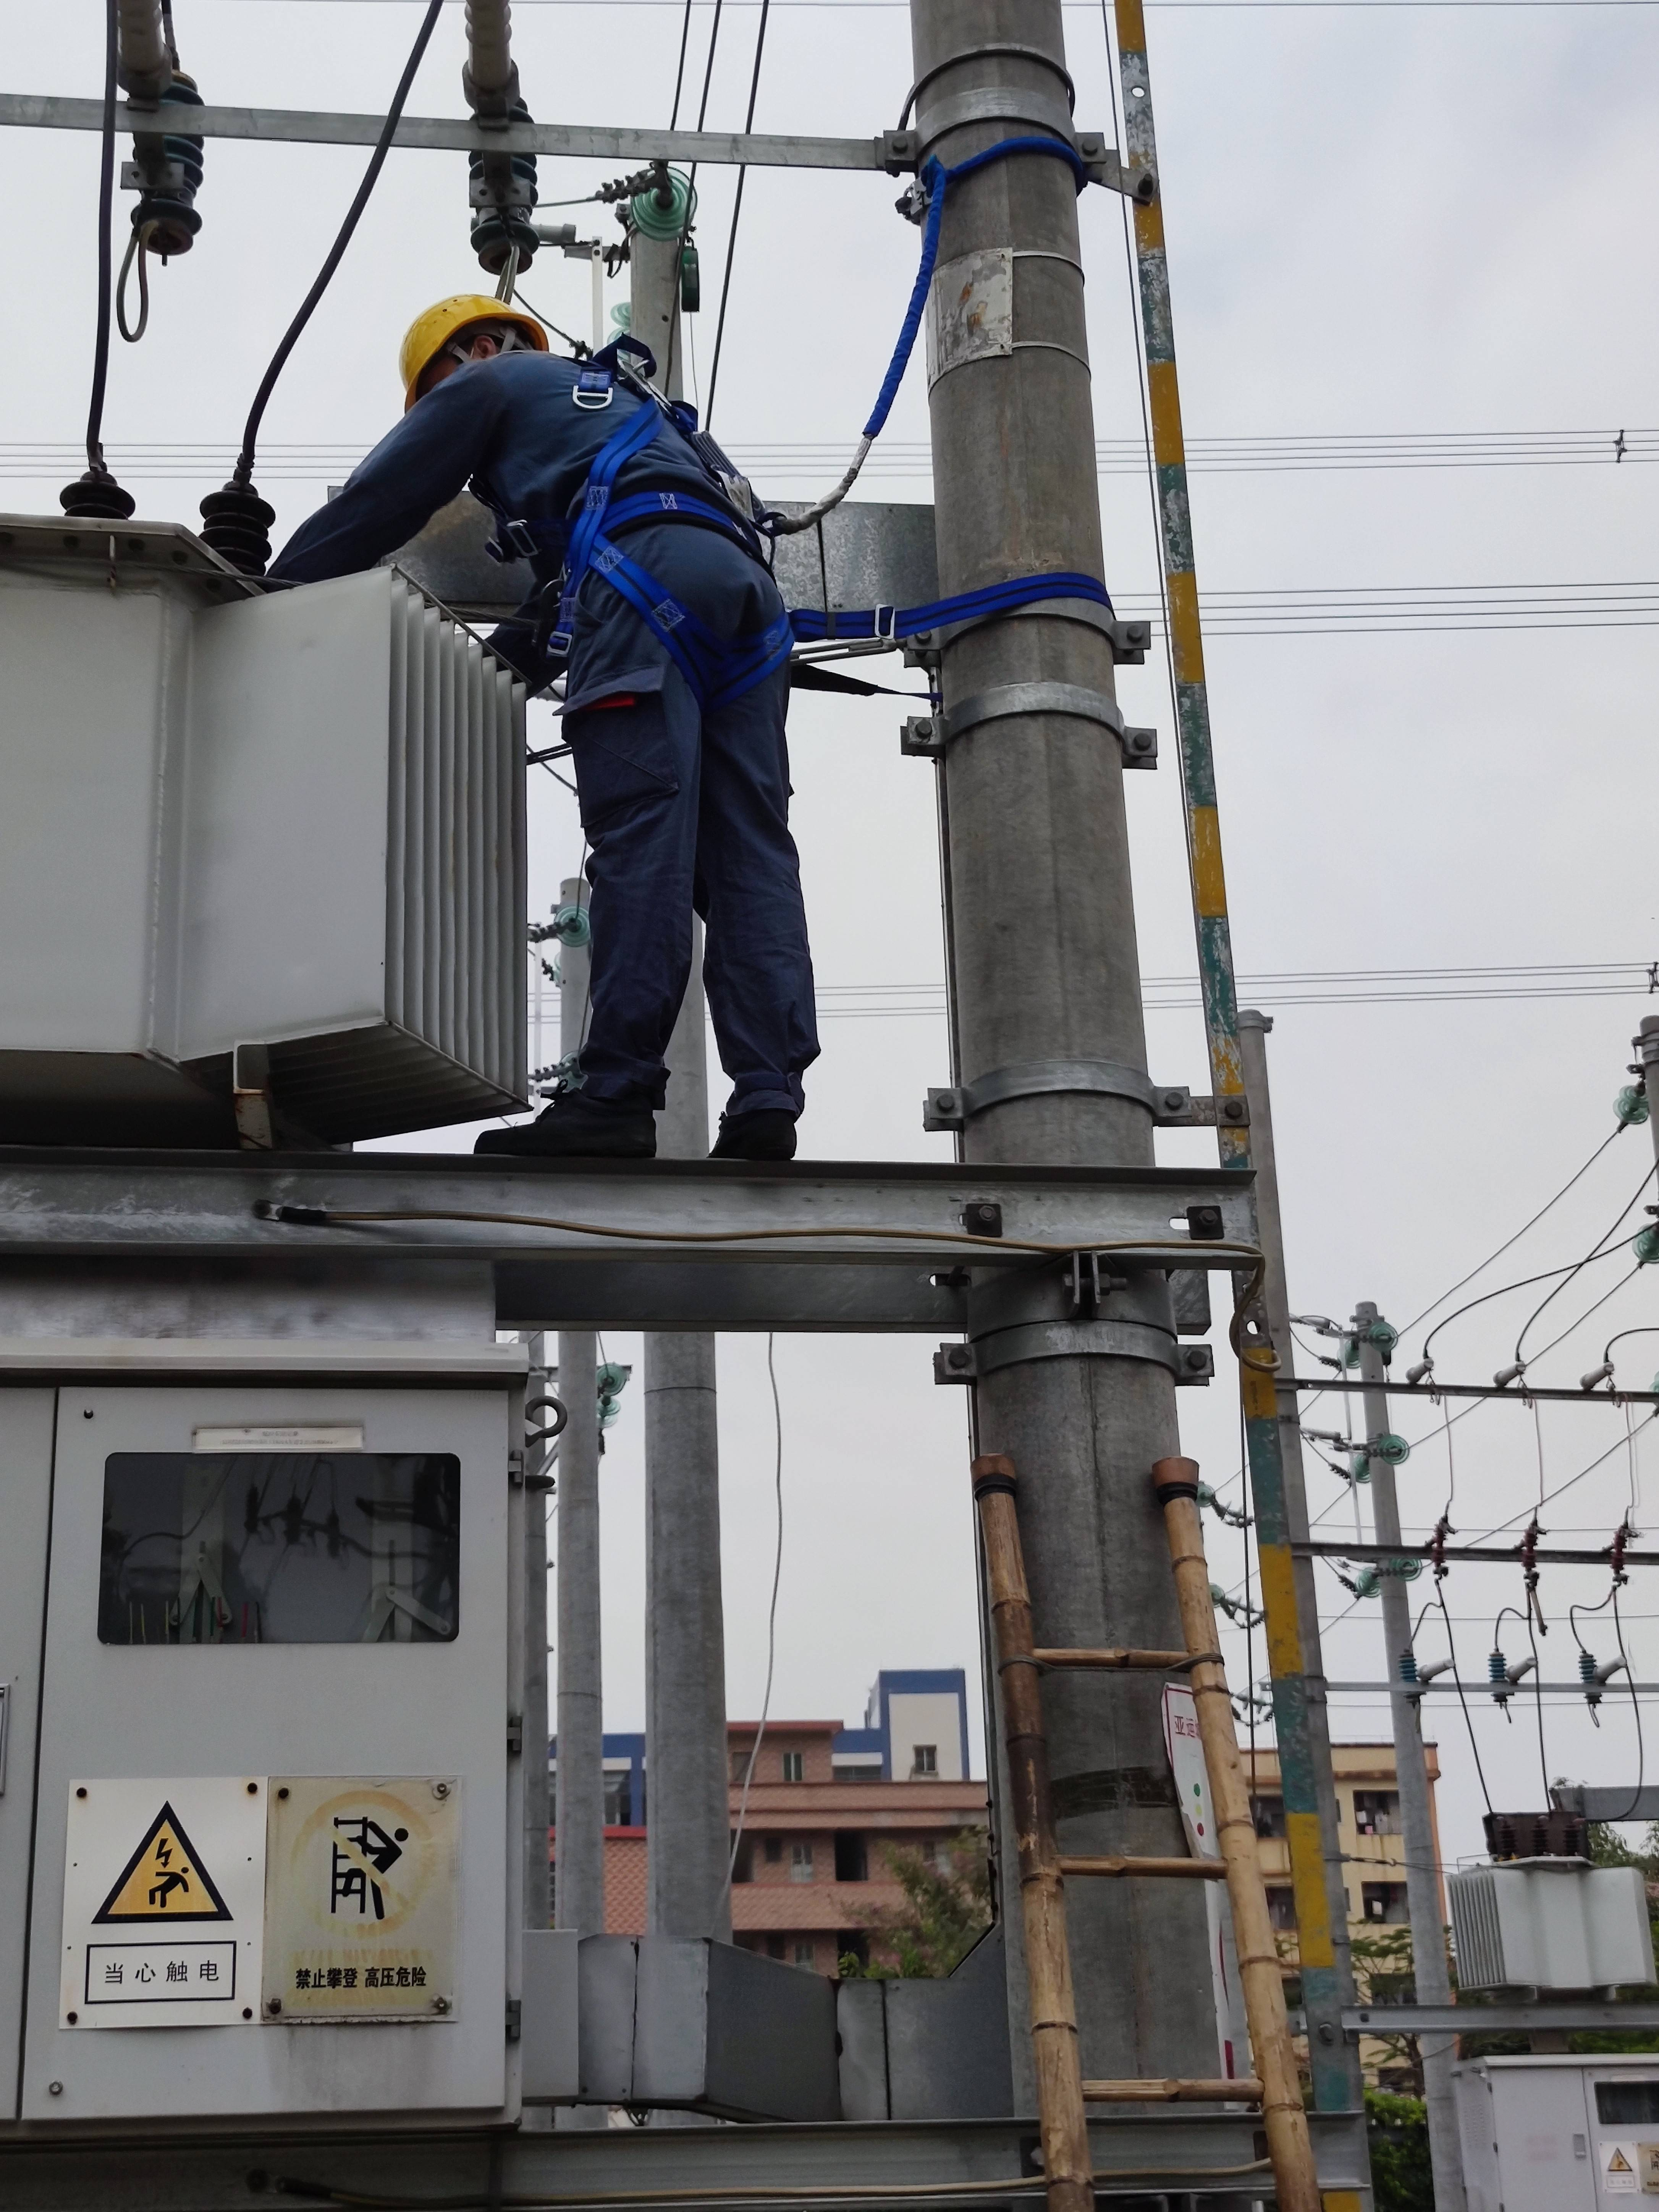downsuit: (566, 547, 816, 1090)
upsuit: (410, 348, 774, 596)
